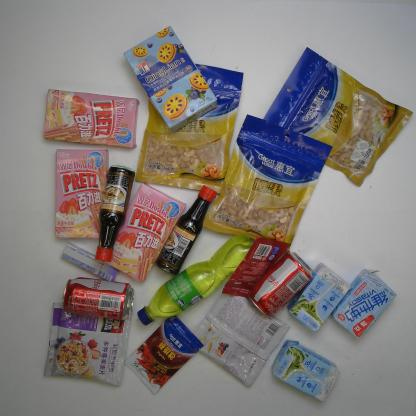Candy: (58, 240, 123, 284)
Dessert: (120, 18, 218, 135), (102, 180, 189, 286), (38, 87, 142, 151), (50, 143, 111, 242)
Dried Fruit: (258, 45, 414, 188), (197, 111, 332, 251), (130, 58, 247, 198)
Drink: (135, 229, 264, 328), (245, 247, 316, 318), (61, 270, 140, 323)
Instant Drink: (184, 284, 290, 388), (40, 298, 136, 387)
Milk: (278, 259, 350, 336), (330, 265, 397, 342), (268, 338, 341, 404)
Seasoner: (123, 310, 204, 395), (148, 181, 218, 276), (217, 234, 292, 300), (93, 161, 137, 262)
